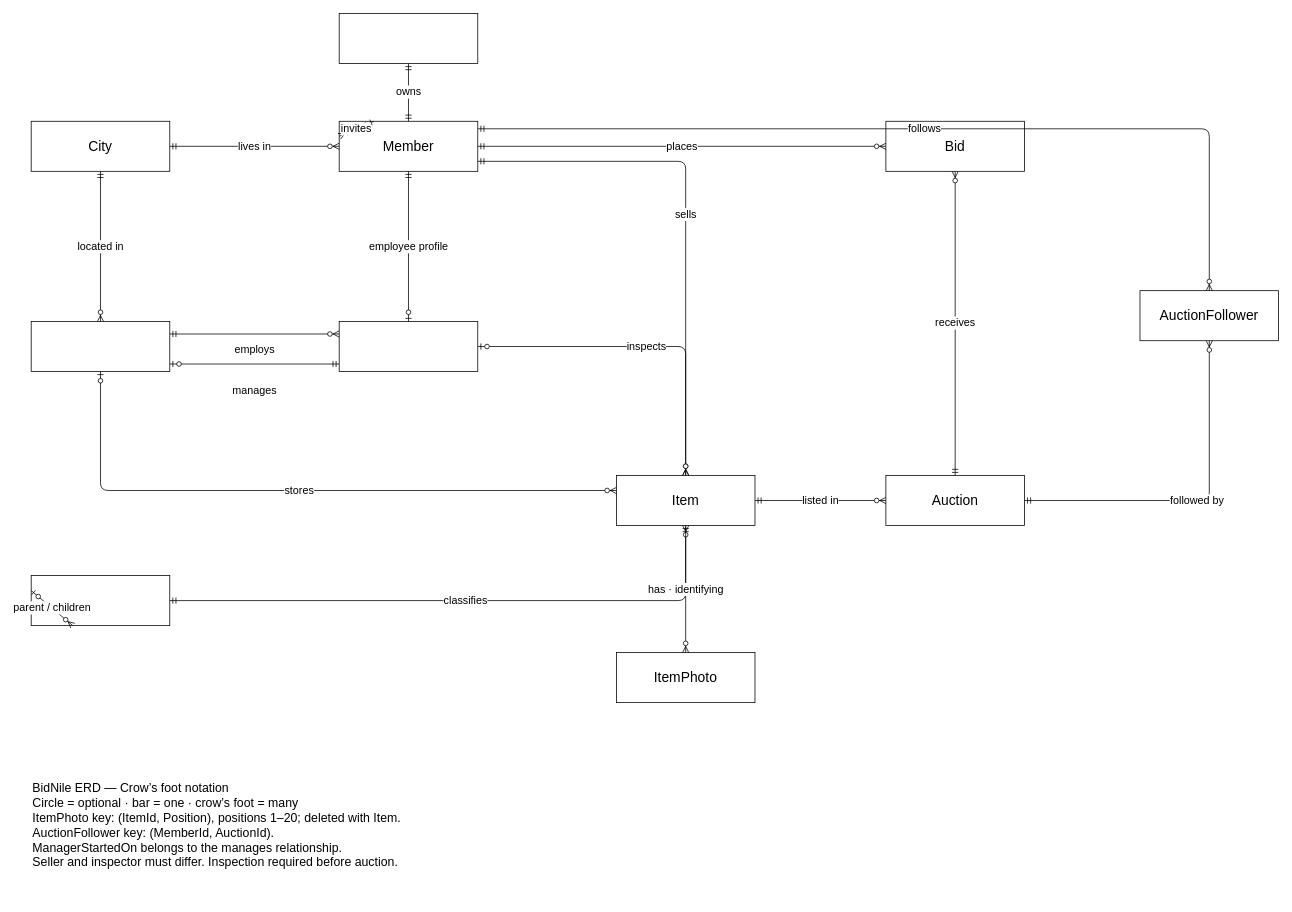
Image size: 1292x912. Some labels were removed from this diagram. The shapes that lost their labels are listed below. From the top down, each one's box as (x1, y1, x2, y2) in pixels, then its label:
(338, 13, 478, 64): Wallet
(30, 321, 170, 372): Warehouse
(338, 321, 478, 372): Employee
(30, 575, 170, 626): Category
